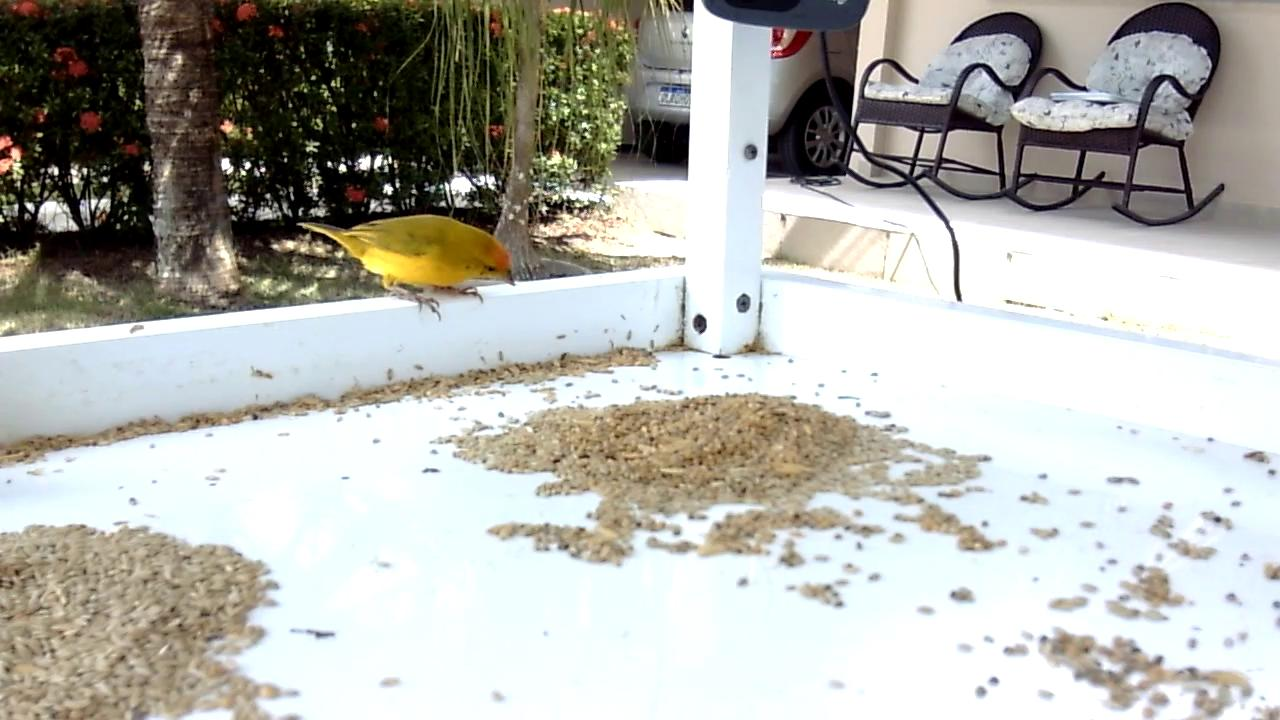canario_do_amazonas: (295, 213, 519, 326)
